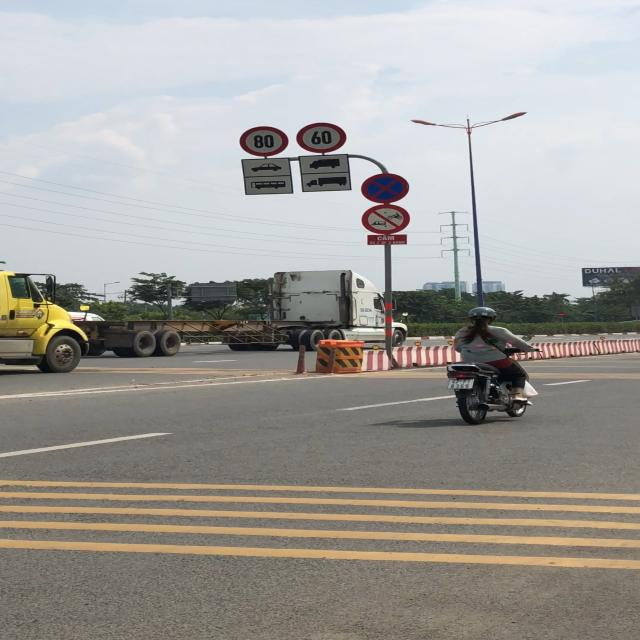Bien bao cam dung xe va do xe: (358, 172, 412, 204)
Bien bao toc do toi da cho phep: (294, 123, 350, 154), (238, 126, 290, 157)
